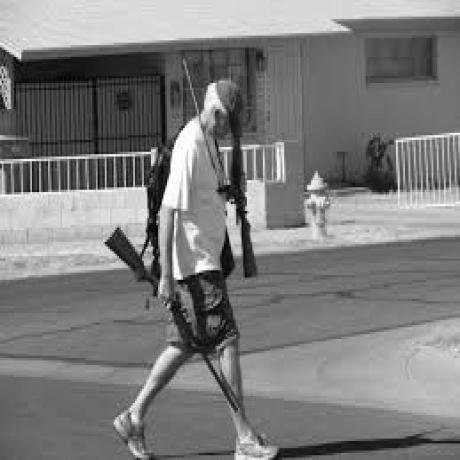Guns: (104, 219, 244, 421), (222, 66, 262, 278)
